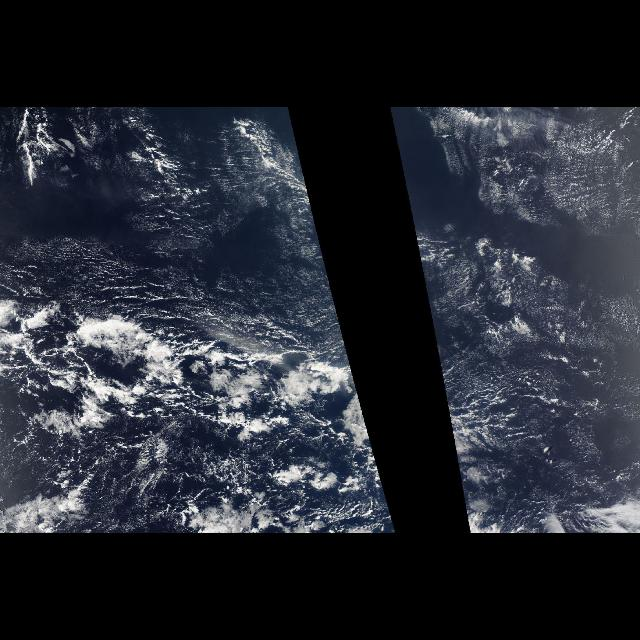Sugar: (125, 156, 357, 390), (397, 156, 619, 390)
